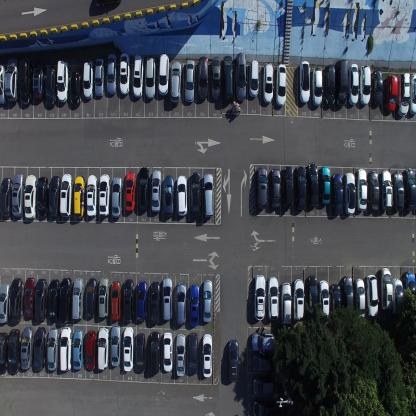car: (18, 56, 32, 106), (33, 324, 47, 372), (8, 277, 22, 324), (59, 173, 73, 219), (335, 60, 348, 108), (250, 376, 278, 398), (379, 168, 393, 212), (253, 274, 266, 321), (7, 328, 20, 375), (5, 56, 18, 103), (23, 174, 36, 220), (366, 274, 379, 319), (46, 326, 59, 371), (20, 326, 33, 371), (59, 277, 72, 322), (47, 277, 60, 322), (34, 276, 47, 321), (48, 174, 61, 219), (380, 267, 393, 311), (403, 167, 416, 211), (56, 60, 69, 104), (169, 60, 182, 104), (307, 161, 319, 208), (342, 275, 354, 322), (391, 170, 405, 210), (292, 279, 305, 322), (97, 327, 110, 370), (36, 176, 49, 219), (32, 58, 45, 101), (295, 166, 307, 212), (398, 72, 410, 118), (190, 170, 202, 216), (122, 326, 134, 372), (150, 168, 162, 214), (138, 166, 150, 212), (250, 331, 276, 352), (251, 353, 277, 374), (280, 282, 292, 327), (175, 281, 187, 326), (60, 326, 72, 371), (98, 172, 110, 217), (73, 174, 85, 219), (12, 172, 24, 217), (132, 54, 144, 99), (183, 58, 195, 103), (236, 52, 247, 101), (158, 52, 170, 96), (201, 278, 213, 322), (144, 56, 156, 100), (403, 271, 415, 315), (72, 276, 84, 320), (23, 276, 35, 320), (111, 175, 123, 219), (44, 68, 57, 108), (331, 172, 343, 215), (368, 171, 380, 214), (227, 339, 239, 382), (0, 176, 12, 219), (82, 58, 94, 101), (385, 74, 398, 113), (203, 171, 214, 217), (149, 329, 160, 375), (124, 170, 136, 212), (283, 164, 294, 209), (354, 278, 365, 323), (268, 276, 279, 321), (202, 333, 213, 378), (162, 276, 173, 321), (123, 278, 134, 323), (98, 275, 109, 320), (257, 166, 268, 210), (270, 166, 281, 210), (344, 172, 355, 216), (330, 283, 341, 327), (307, 274, 318, 318), (348, 63, 359, 107), (299, 60, 310, 104), (211, 56, 222, 100), (198, 55, 209, 99), (175, 332, 186, 376), (149, 280, 160, 324), (136, 279, 147, 323), (110, 324, 121, 368), (119, 52, 130, 96), (392, 278, 404, 318), (311, 67, 323, 107), (163, 174, 174, 217), (189, 283, 200, 326), (110, 279, 121, 322), (86, 174, 97, 217), (106, 52, 117, 95), (223, 55, 233, 102), (372, 69, 384, 108), (319, 280, 330, 322), (324, 65, 335, 107), (177, 174, 188, 216), (356, 168, 367, 210), (135, 332, 146, 374), (320, 165, 331, 206), (360, 65, 371, 106), (162, 331, 173, 372), (86, 277, 97, 318), (70, 70, 82, 107), (276, 63, 286, 107), (264, 61, 274, 104), (188, 332, 198, 375), (0, 282, 10, 325), (73, 328, 83, 370), (249, 60, 260, 98), (252, 400, 278, 416), (86, 329, 96, 370), (94, 57, 104, 98), (0, 331, 8, 375), (408, 72, 416, 115), (0, 63, 6, 106), (95, 0, 121, 7)
